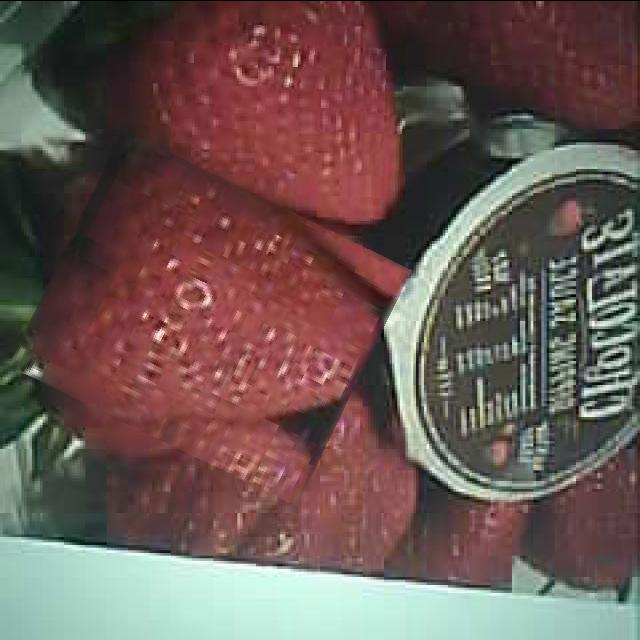strawberry: (29, 158, 392, 478), (119, 0, 404, 223)
